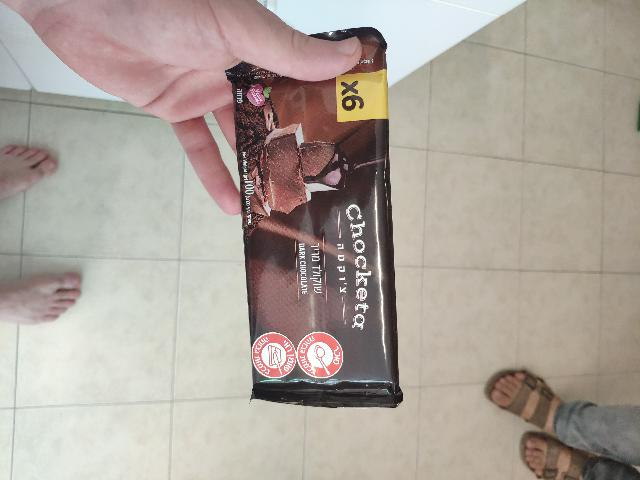chocolate: (185, 219, 578, 447)
